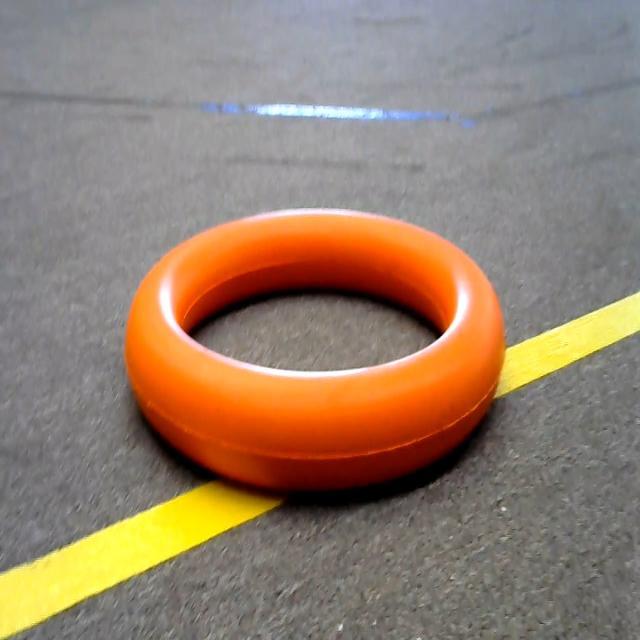note: (114, 188, 523, 517)
